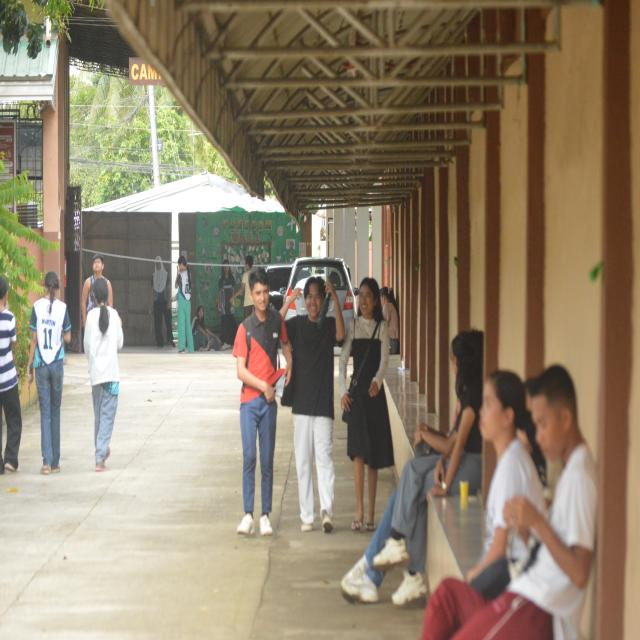person: (422, 366, 597, 639), (342, 331, 482, 605), (280, 277, 344, 532), (233, 268, 292, 535), (340, 278, 394, 531), (28, 272, 71, 474), (84, 279, 123, 471), (0, 277, 21, 474), (149, 256, 175, 348), (81, 254, 112, 327), (216, 259, 237, 345), (192, 305, 230, 351), (175, 256, 193, 353), (231, 255, 253, 319), (381, 287, 399, 355)
